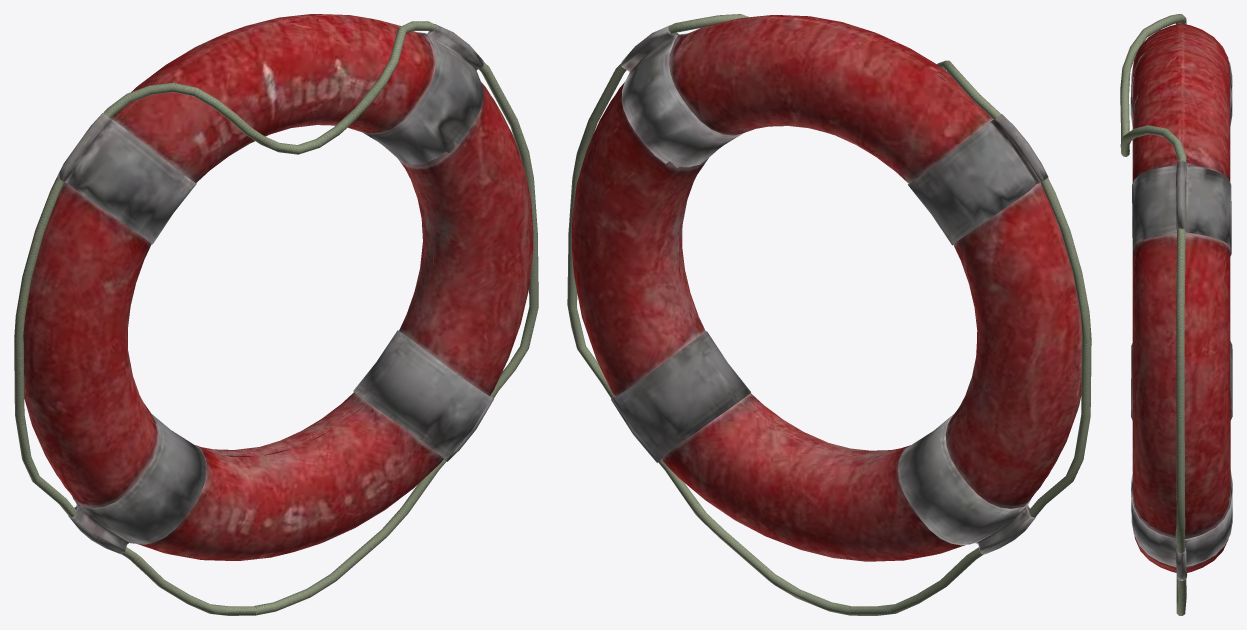
File: lifebuoy.glb
3 views of the same model, side by side, from view 1: azimuth 30°, elevation 25°; view 2: azimuth 150°, elevation 25°; view 3: azimuth 270°, elevation 25° (orthographic). The views are drawn at different scales.
Parts seen in each view (by area): view 1: lifebuoy; view 2: lifebuoy; view 3: lifebuoy.
Part boxes in pixels (x1,y1,x2,y2): lifebuoy: (14, 14, 538, 615); lifebuoy: (567, 14, 1091, 615); lifebuoy: (1120, 14, 1232, 615).
Bounding box in the file's own units: 0.783 × 0.8412 × 0.155.
Materials: 1 (1 with a texture image).
